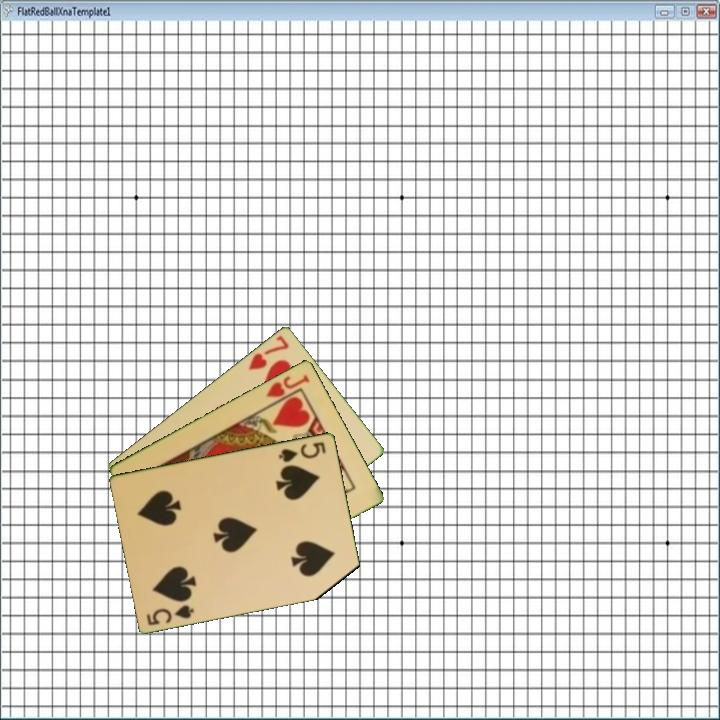5s: (275, 438, 329, 465), (143, 601, 197, 628)
7h: (244, 332, 292, 373)
Jh: (263, 371, 313, 409)
